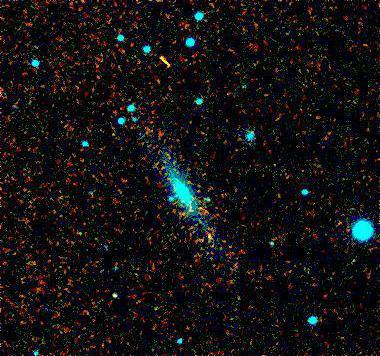star: (195, 221, 225, 251)
